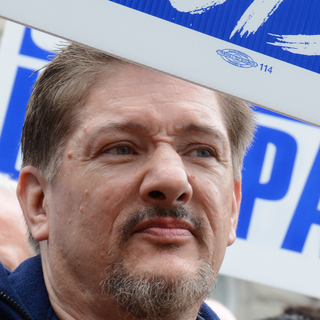eye: (93, 139, 144, 163), (181, 141, 221, 166)
